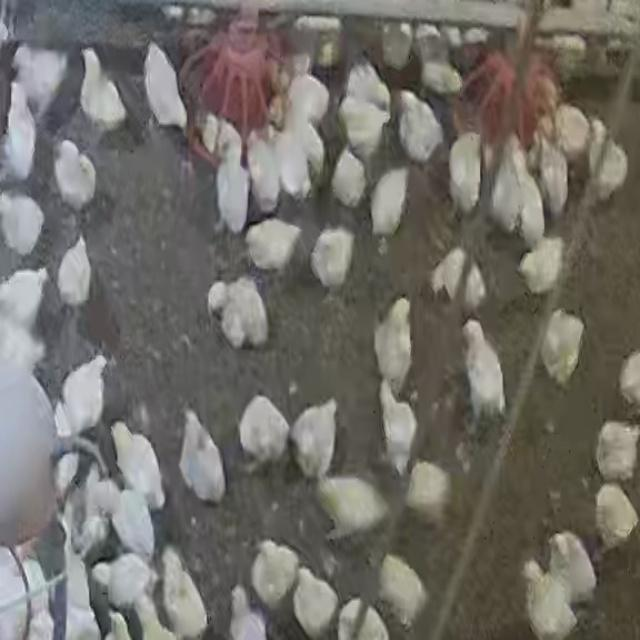chicken: (462, 318, 507, 436), (313, 474, 390, 540), (177, 412, 227, 507), (113, 422, 167, 509), (144, 37, 190, 137), (77, 44, 127, 135), (236, 394, 292, 475), (211, 274, 271, 348), (289, 399, 341, 481), (158, 553, 208, 638), (60, 355, 108, 439), (377, 550, 428, 626), (545, 529, 597, 603), (379, 382, 418, 478), (373, 298, 413, 391), (431, 246, 487, 312), (540, 308, 586, 388), (3, 82, 39, 184), (250, 538, 301, 610), (291, 564, 341, 637), (396, 92, 445, 164), (244, 216, 303, 275), (110, 488, 158, 560), (338, 94, 390, 158), (15, 45, 63, 113), (526, 572, 576, 636), (368, 165, 410, 241), (594, 482, 640, 551), (309, 226, 357, 292), (404, 459, 452, 525), (589, 129, 630, 206), (276, 125, 316, 202), (52, 139, 96, 208), (593, 421, 640, 485), (448, 131, 483, 215), (0, 193, 47, 255), (217, 136, 246, 234), (284, 70, 332, 128), (520, 237, 566, 297), (95, 557, 152, 604), (59, 233, 94, 308), (6, 266, 47, 330), (250, 133, 282, 213), (294, 16, 348, 63), (551, 103, 594, 162), (0, 322, 46, 377), (537, 134, 569, 213), (228, 585, 273, 640), (330, 145, 368, 210), (517, 170, 547, 248), (199, 111, 243, 164), (335, 597, 389, 640), (346, 58, 387, 108), (421, 49, 464, 91), (135, 595, 171, 640), (618, 347, 640, 413), (380, 23, 412, 68), (418, 23, 441, 59)
